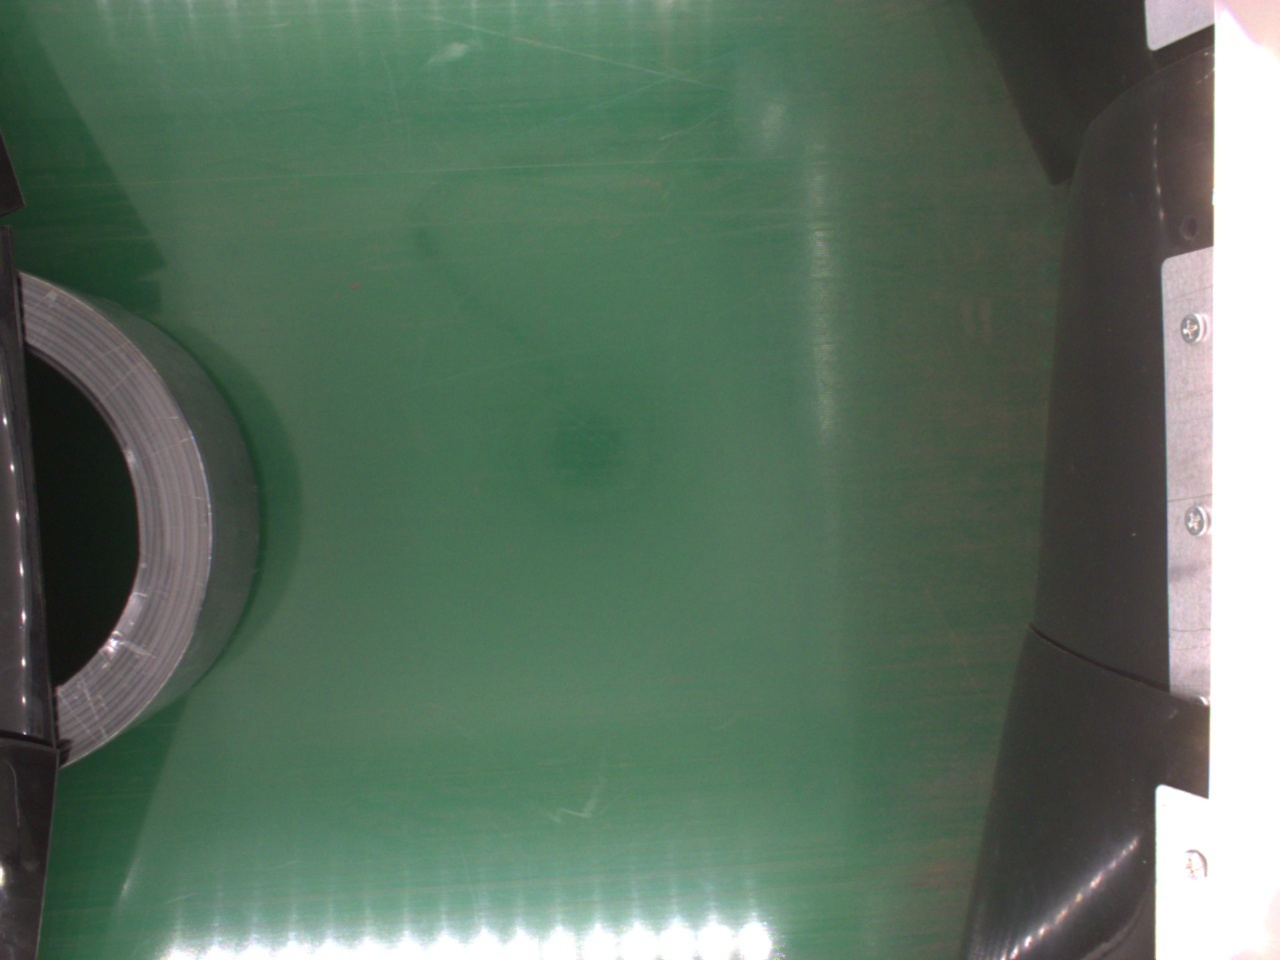black: (13, 271, 261, 763)
